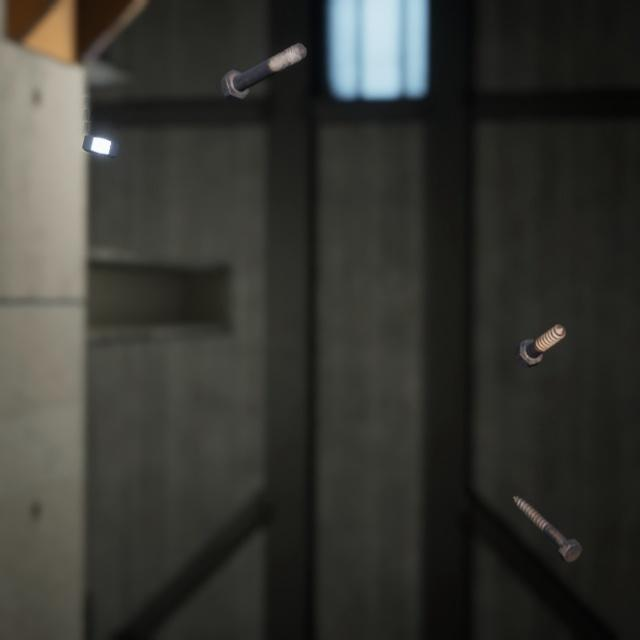bolt: (215, 27, 311, 95), (508, 470, 586, 544), (510, 301, 570, 354)
nut: (77, 117, 124, 148)
